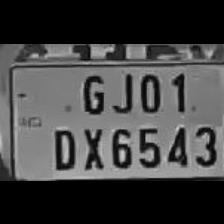0: (134, 66, 162, 114)
1: (165, 64, 191, 112)
3: (188, 120, 218, 166)
4: (164, 120, 188, 168)
5: (134, 120, 162, 168)
6: (105, 122, 133, 168)
D: (48, 124, 78, 170)
G: (78, 65, 106, 115)
J: (109, 64, 135, 114)
X: (79, 121, 105, 169)
